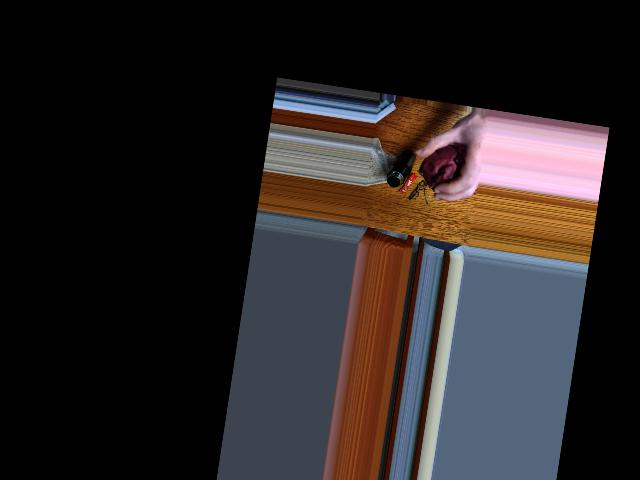onion: (428, 139, 466, 188)
